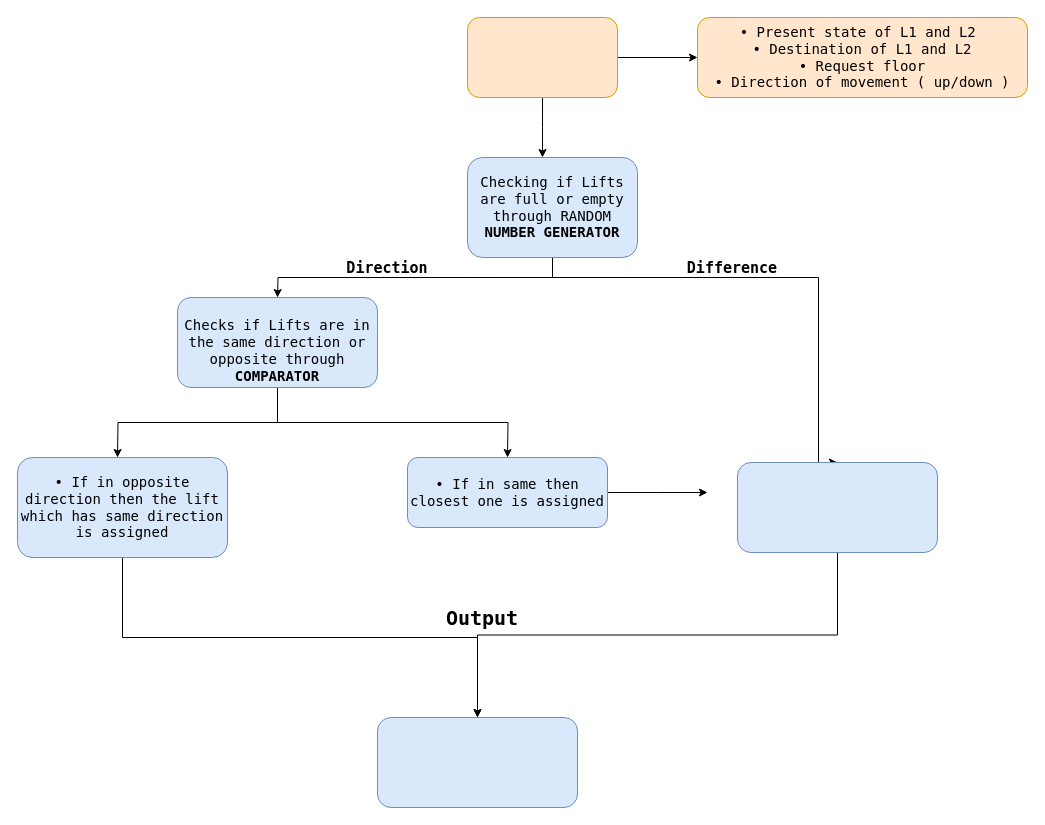
This 1045x825 diagram has some shape labels left out. Here are the shapes that lost their labels. From the top down, the centre of each, then its label:
At point (542, 57): "Multiple Calls (Input from each floor)".
At point (837, 507): "To check which of the same directional lifts are closest through SUBTRACTOR".
At point (477, 762): "Assigned lift 01- Lift 1 10- Lift 2 00- None".
